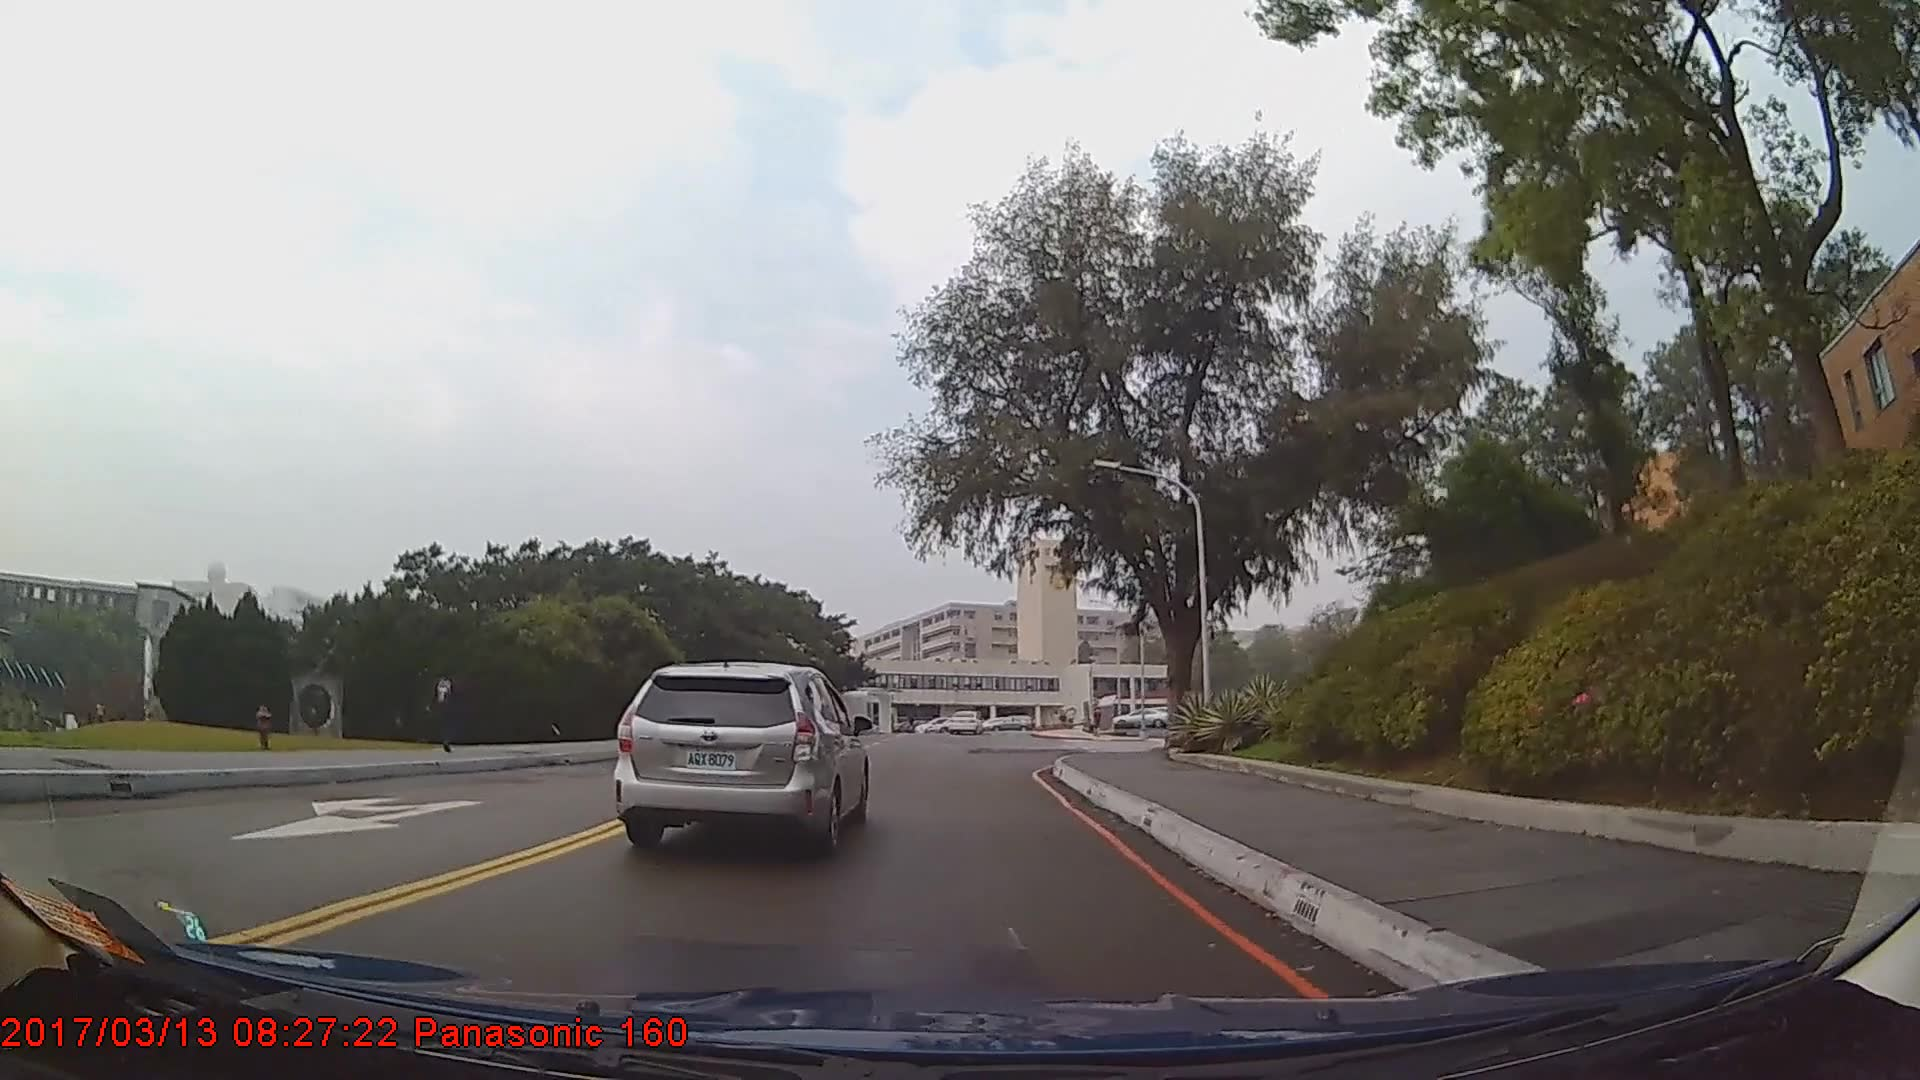pedestrian: (423, 661, 467, 754)
vehicle: (610, 658, 869, 851), (946, 705, 984, 732)
